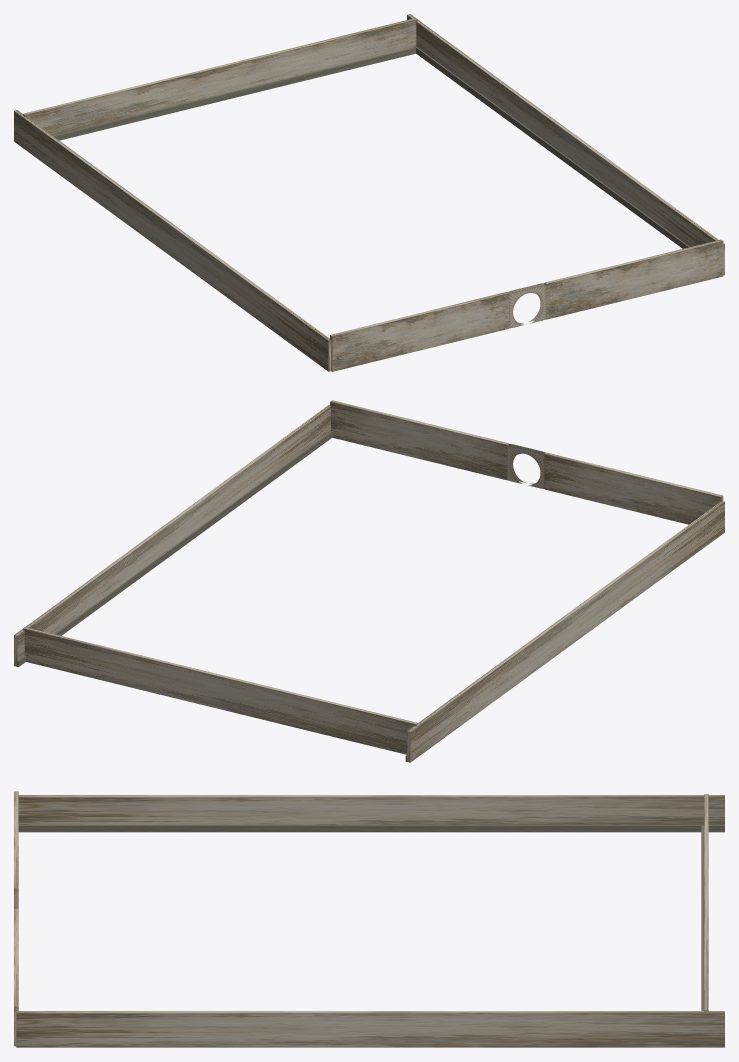
Rendered from garden_walls.glb.
The picture shows the model from 3 angles, top to bottom: view 1: azimuth 30°, elevation 25°; view 2: azimuth 150°, elevation 25°; view 3: azimuth 270°, elevation 25°; orthographic projection. The views are drawn at different scales.
Parts seen in each view (by area): view 1: garden_walls0; view 2: garden_walls0; view 3: garden_walls0.
Boxes of the visible parts, bbox=[...] form: garden_walls0: bbox=[14, 14, 724, 371]; garden_walls0: bbox=[14, 400, 724, 762]; garden_walls0: bbox=[14, 791, 724, 1047].
Size of the model in its own units: 44.38 by 3.8 by 61.2.
Materials: 1 (1 with a texture image).
